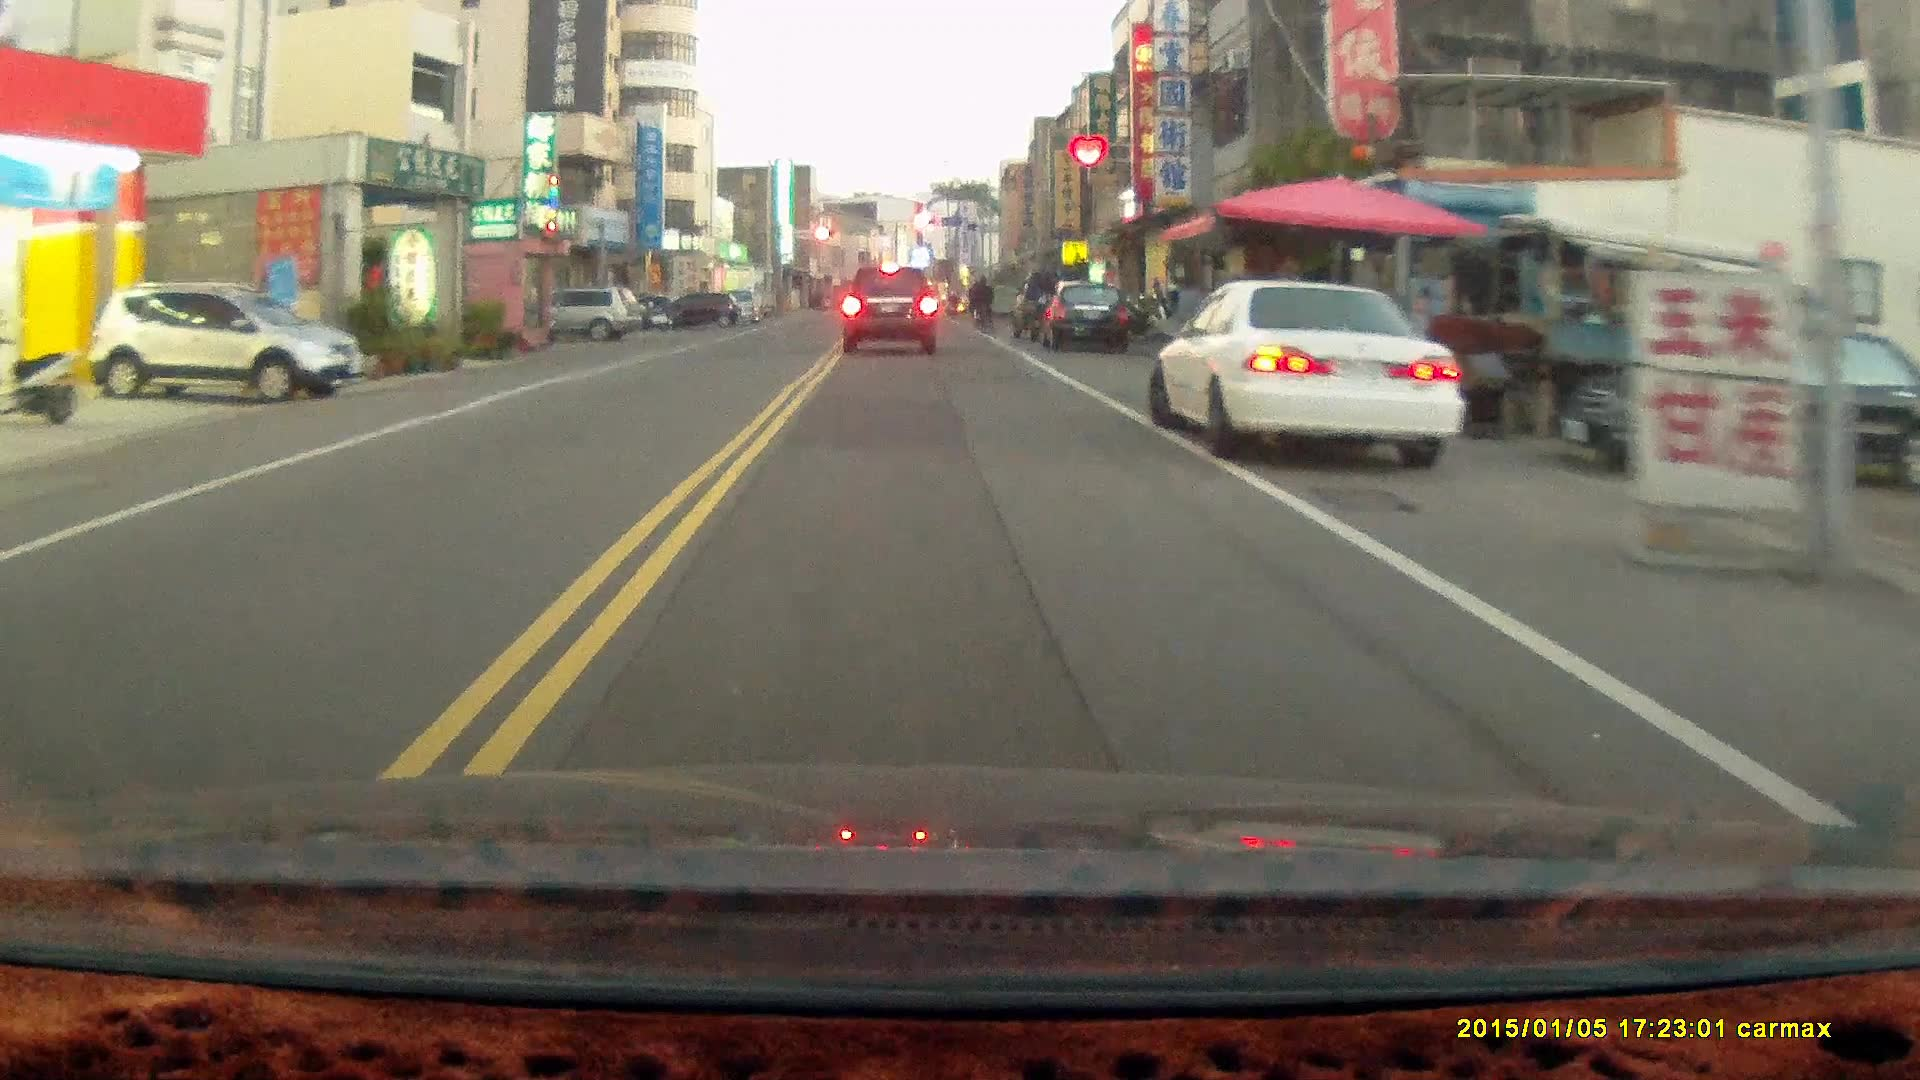rider: (969, 276, 995, 333)
vehicle: (1543, 326, 1918, 493), (1152, 279, 1464, 469), (93, 284, 353, 411), (840, 262, 941, 358), (1042, 284, 1137, 353), (546, 288, 643, 342)
